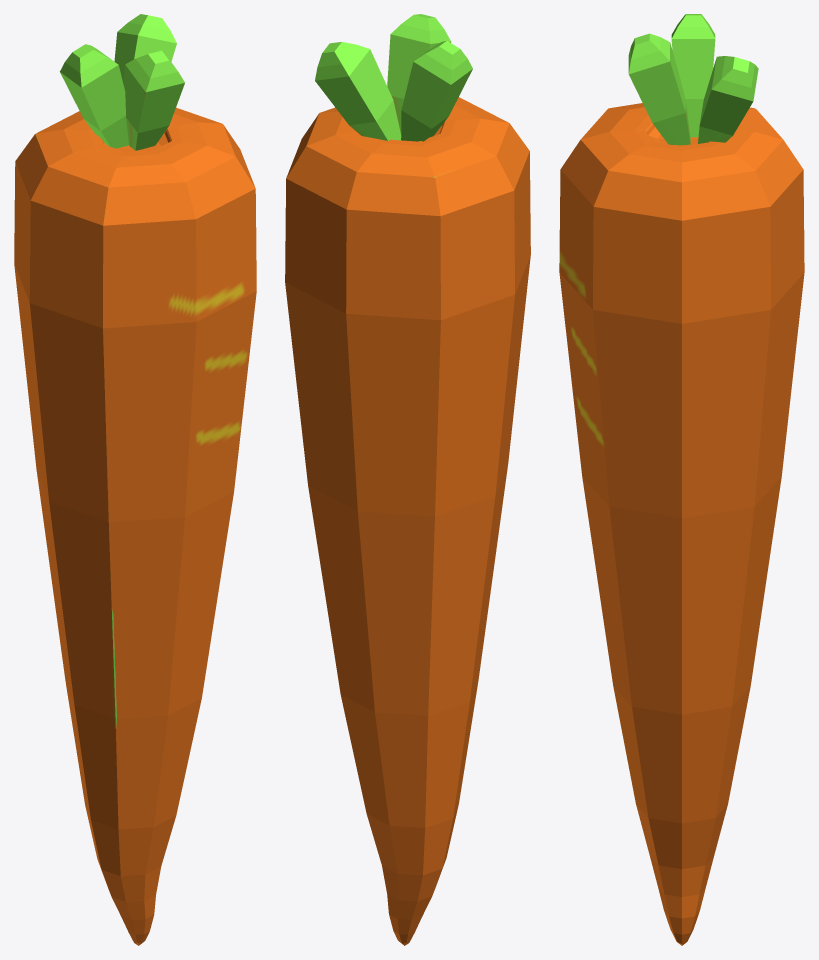
Rendered from carrot.obj.
3 renders of one model, left to right at view 1: azimuth 30°, elevation 25°; view 2: azimuth 150°, elevation 25°; view 3: azimuth 270°, elevation 25°, orthographic.
Parts seen in each view (by area): view 1: 立方体; view 2: 立方体; view 3: 立方体.
Part boxes in pixels (x1,y1,x2,y2): 立方体: (14,14,256,945); 立方体: (285,14,530,945); 立方体: (559,14,804,945).
Bounding box in the file's own units: 1.59 × 6.48 × 1.59.
1 material, 1 textured.
